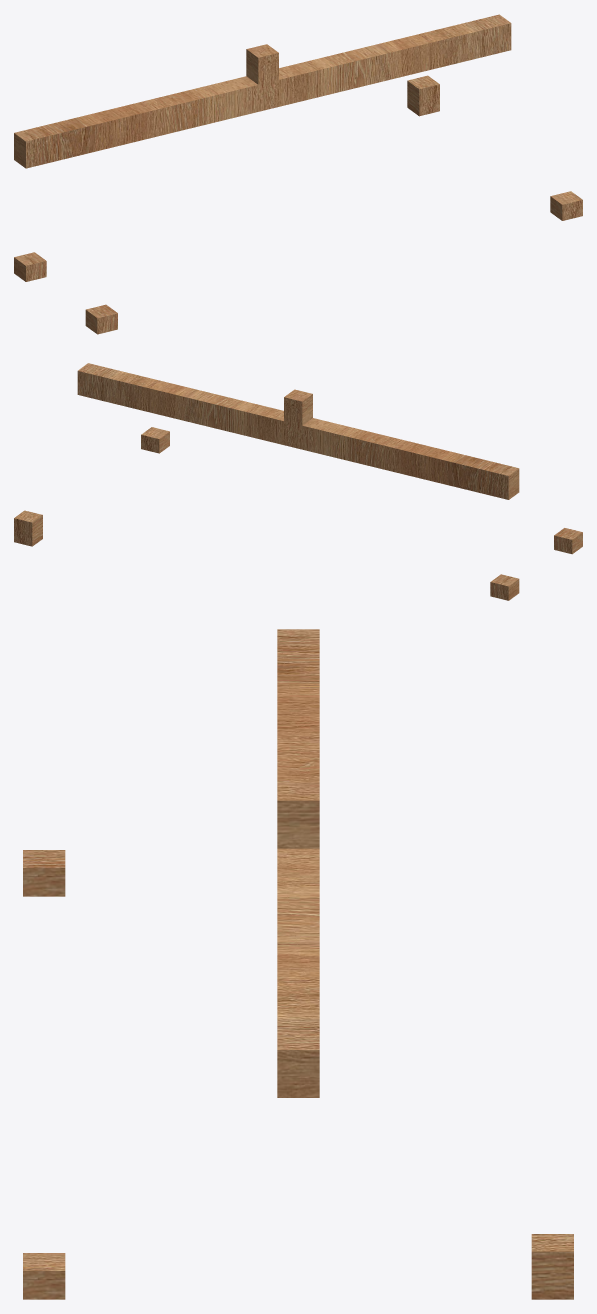
Rendered from 20005_deepcad-end2end.glb.
The picture shows the model from 3 angles, top to bottom: view 1: azimuth 30°, elevation 25°; view 2: azimuth 150°, elevation 25°; view 3: azimuth 270°, elevation 25°; orthographic projection. The views are drawn at different scales.
Parts seen in each view (by area): view 1: test_cmd_20005_pred; view 2: test_cmd_20005_pred; view 3: test_cmd_20005_pred.
Part boxes in pixels (bbox=[...]): test_cmd_20005_pred: bbox=[14, 14, 582, 334]; test_cmd_20005_pred: bbox=[14, 363, 582, 600]; test_cmd_20005_pred: bbox=[23, 629, 573, 1299].
Bounding box in the file's own units: 1 × 0.3298 × 0.5532.
Materials: 1 (1 with a texture image).
